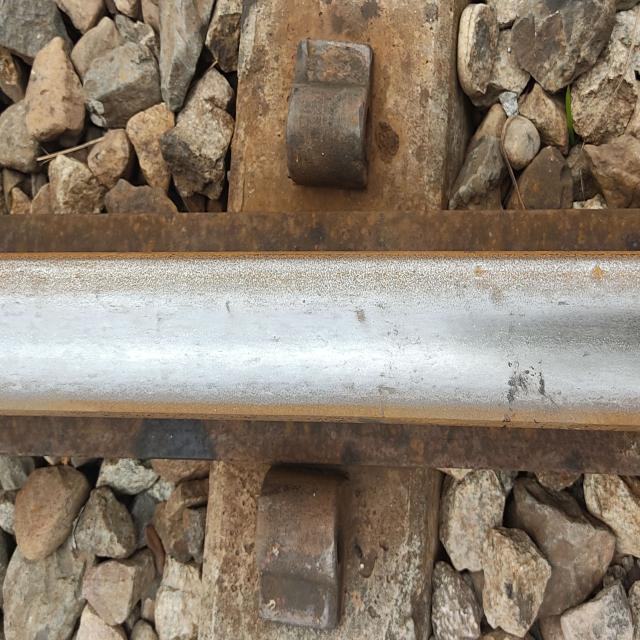head_checks_low: (502, 356, 554, 426)
